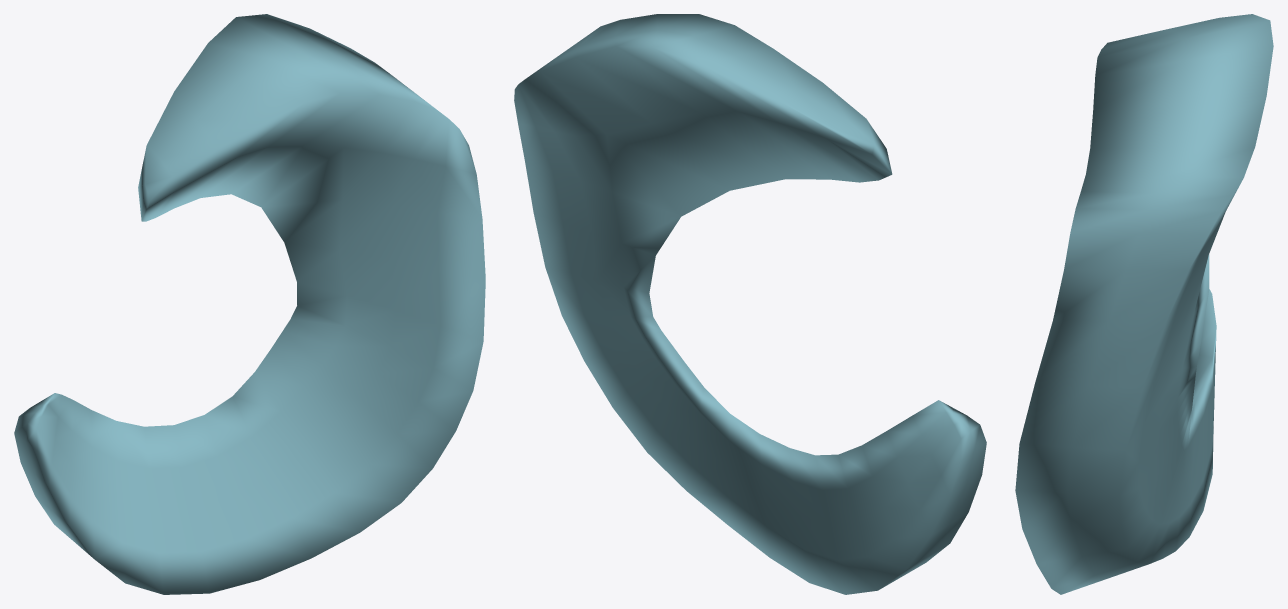
The picture shows the model from 3 angles, left to right: view 1: azimuth 30°, elevation 25°; view 2: azimuth 150°, elevation 25°; view 3: azimuth 270°, elevation 25°; orthographic projection. The views are drawn at different scales.
Parts seen in each view (by area): view 1: 左侧外侧半月板; view 2: 左侧外侧半月板; view 3: 左侧外侧半月板.
Part boxes in pixels (box(x1,y1,x2,y2)): 左侧外侧半月板: box(14, 14, 485, 594); 左侧外侧半月板: box(514, 14, 986, 594); 左侧外侧半月板: box(1015, 14, 1273, 594).
Bounding box in the file's own units: 0.0498 × 0.0571 × 0.0226.
